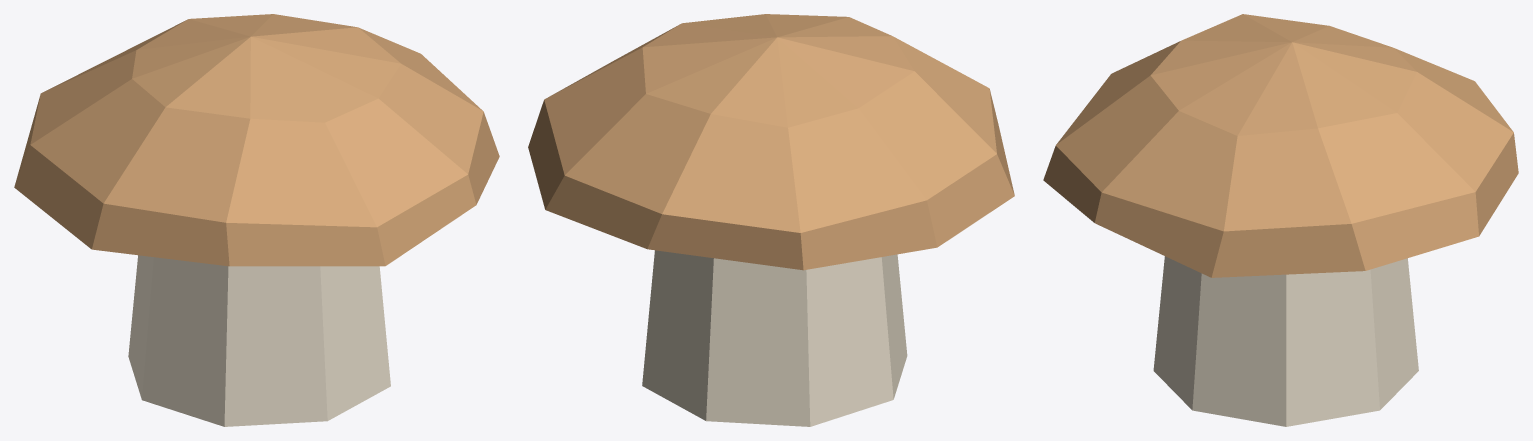
Rendered from Mushroom.fbx.
3 renders of one model, left to right at view 1: azimuth 30°, elevation 25°; view 2: azimuth 150°, elevation 25°; view 3: azimuth 270°, elevation 25°, orthographic. The views are drawn at different scales.
Parts seen in each view (by area): view 1: Cap, Stem; view 2: Cap, Stem; view 3: Cap, Stem.
Part boxes in pixels (<box>): Cap: <box>14,14,499,266</box>; Stem: <box>128,255,390,426</box>; Cap: <box>528,14,1014,270</box>; Stem: <box>642,250,907,426</box>; Cap: <box>1043,14,1518,277</box>; Stem: <box>1153,256,1418,426</box>.
Bounding box in the file's own units: 1.58 × 1.24 × 1.63.
